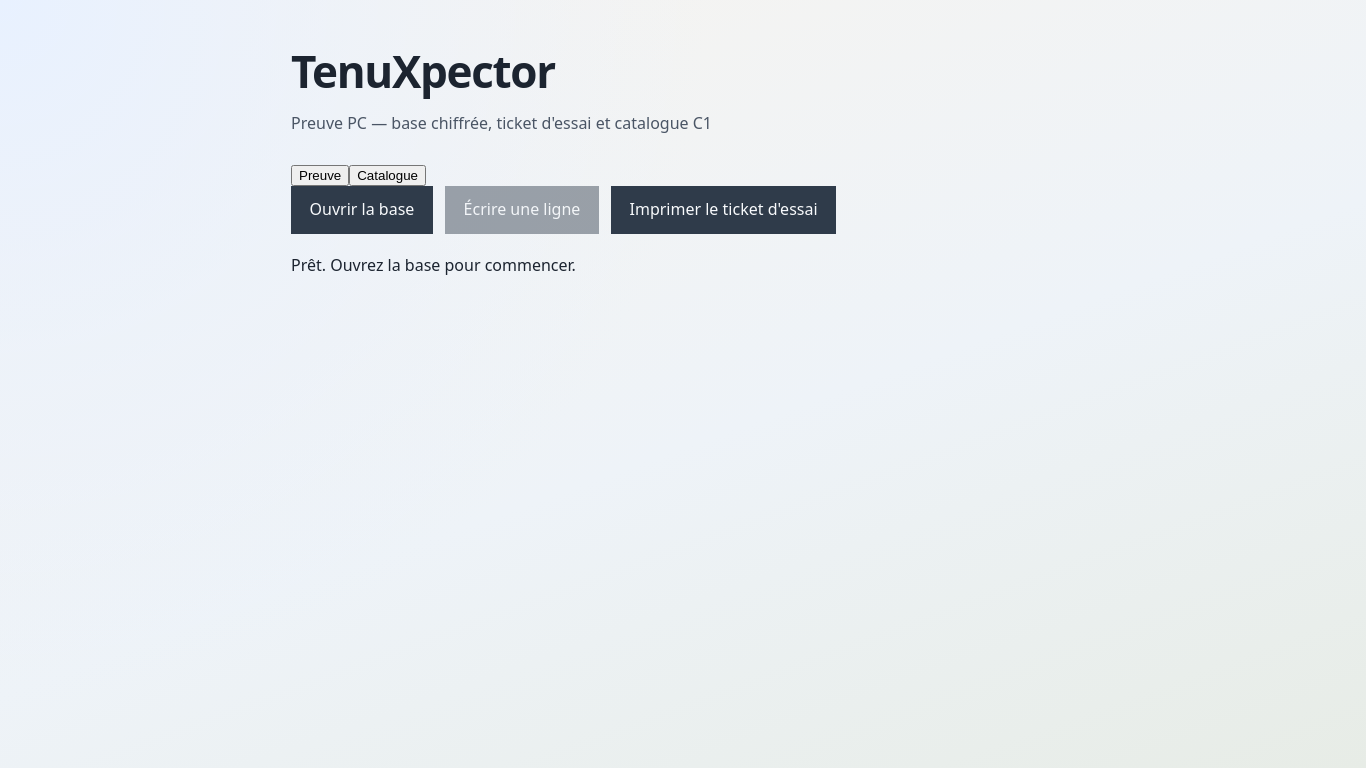
Test: App renderer [NFR8] › signale une impression non effectuée sans bloquer
Click the button with test id "print-probe" at (724, 210), box [611,186,836,234]
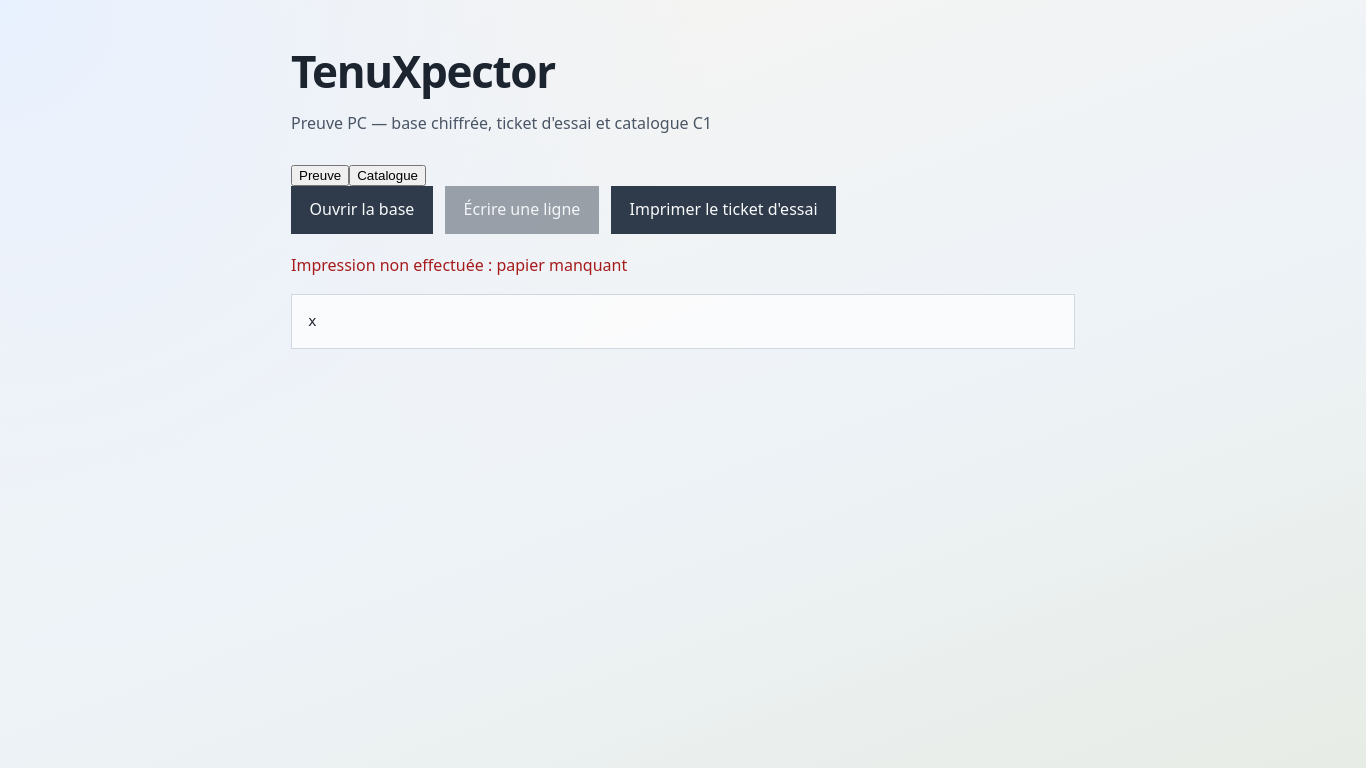
Expected: the button with test id "open-database" is enabled, [291,186,433,234]
Expected: the message with test id "status-line" shows "papier manquant", [291,254,627,276]
